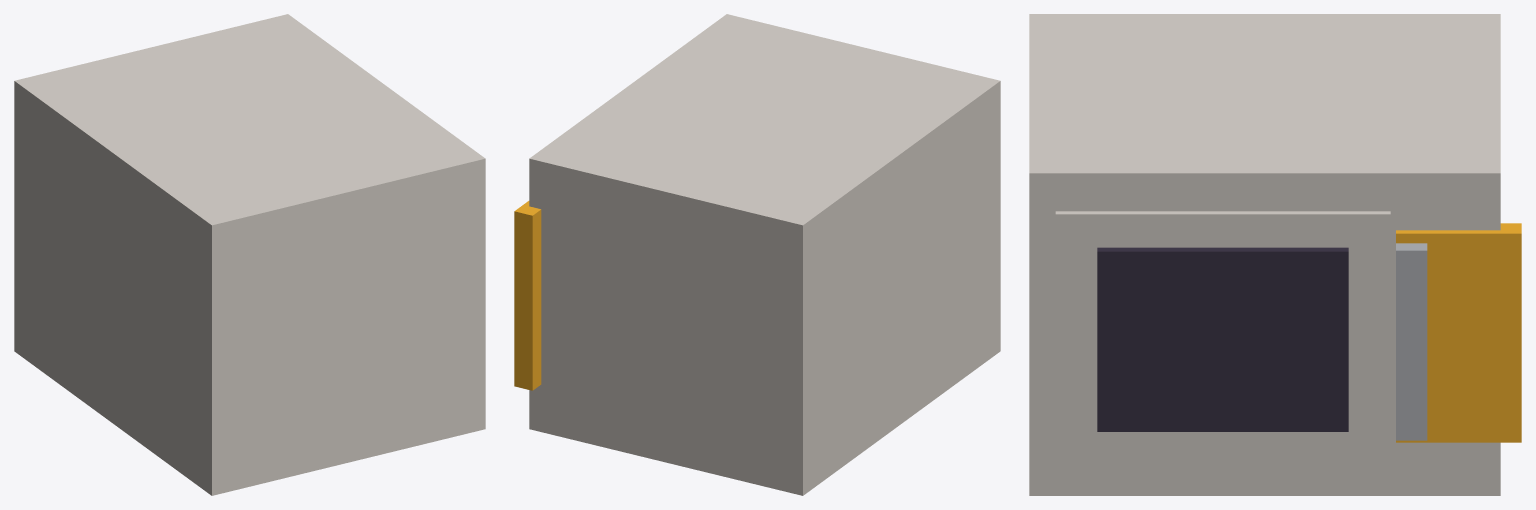
The model's file is microwave_oven.glb.
The picture shows the model from 3 angles, left to right: view 1: azimuth 30°, elevation 25°; view 2: azimuth 150°, elevation 25°; view 3: azimuth 270°, elevation 25°; orthographic projection. The views are drawn at different scales.
Parts seen in each view (by area): view 1: microwave_body; view 2: microwave_body, keypad_strip; view 3: microwave_body, door_window, door_frame, keypad_strip, door_handle.
Part boxes in pixels (bbox=[...]): microwave_body: bbox=[14, 14, 485, 495]; microwave_body: bbox=[529, 14, 1000, 495]; keypad_strip: bbox=[514, 201, 541, 390]; microwave_body: bbox=[1029, 14, 1500, 495]; door_window: bbox=[1097, 247, 1348, 431]; door_frame: bbox=[1055, 211, 1390, 460]; keypad_strip: bbox=[1396, 223, 1521, 442]; door_handle: bbox=[1396, 243, 1427, 440].
Bounding box in the file's own units: 0.385 × 0.34 × 0.47.
